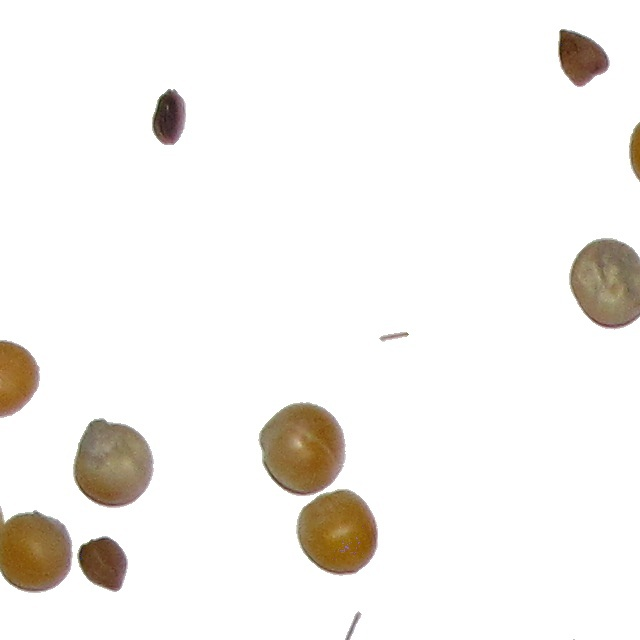buckwheat: (557, 28, 611, 88), (76, 535, 129, 593), (151, 88, 187, 146)
dill: (323, 610, 363, 640), (378, 331, 410, 343)
mais: (257, 401, 347, 497), (72, 417, 155, 509), (295, 488, 379, 577), (568, 237, 640, 331), (1, 503, 74, 594), (628, 91, 640, 201)
